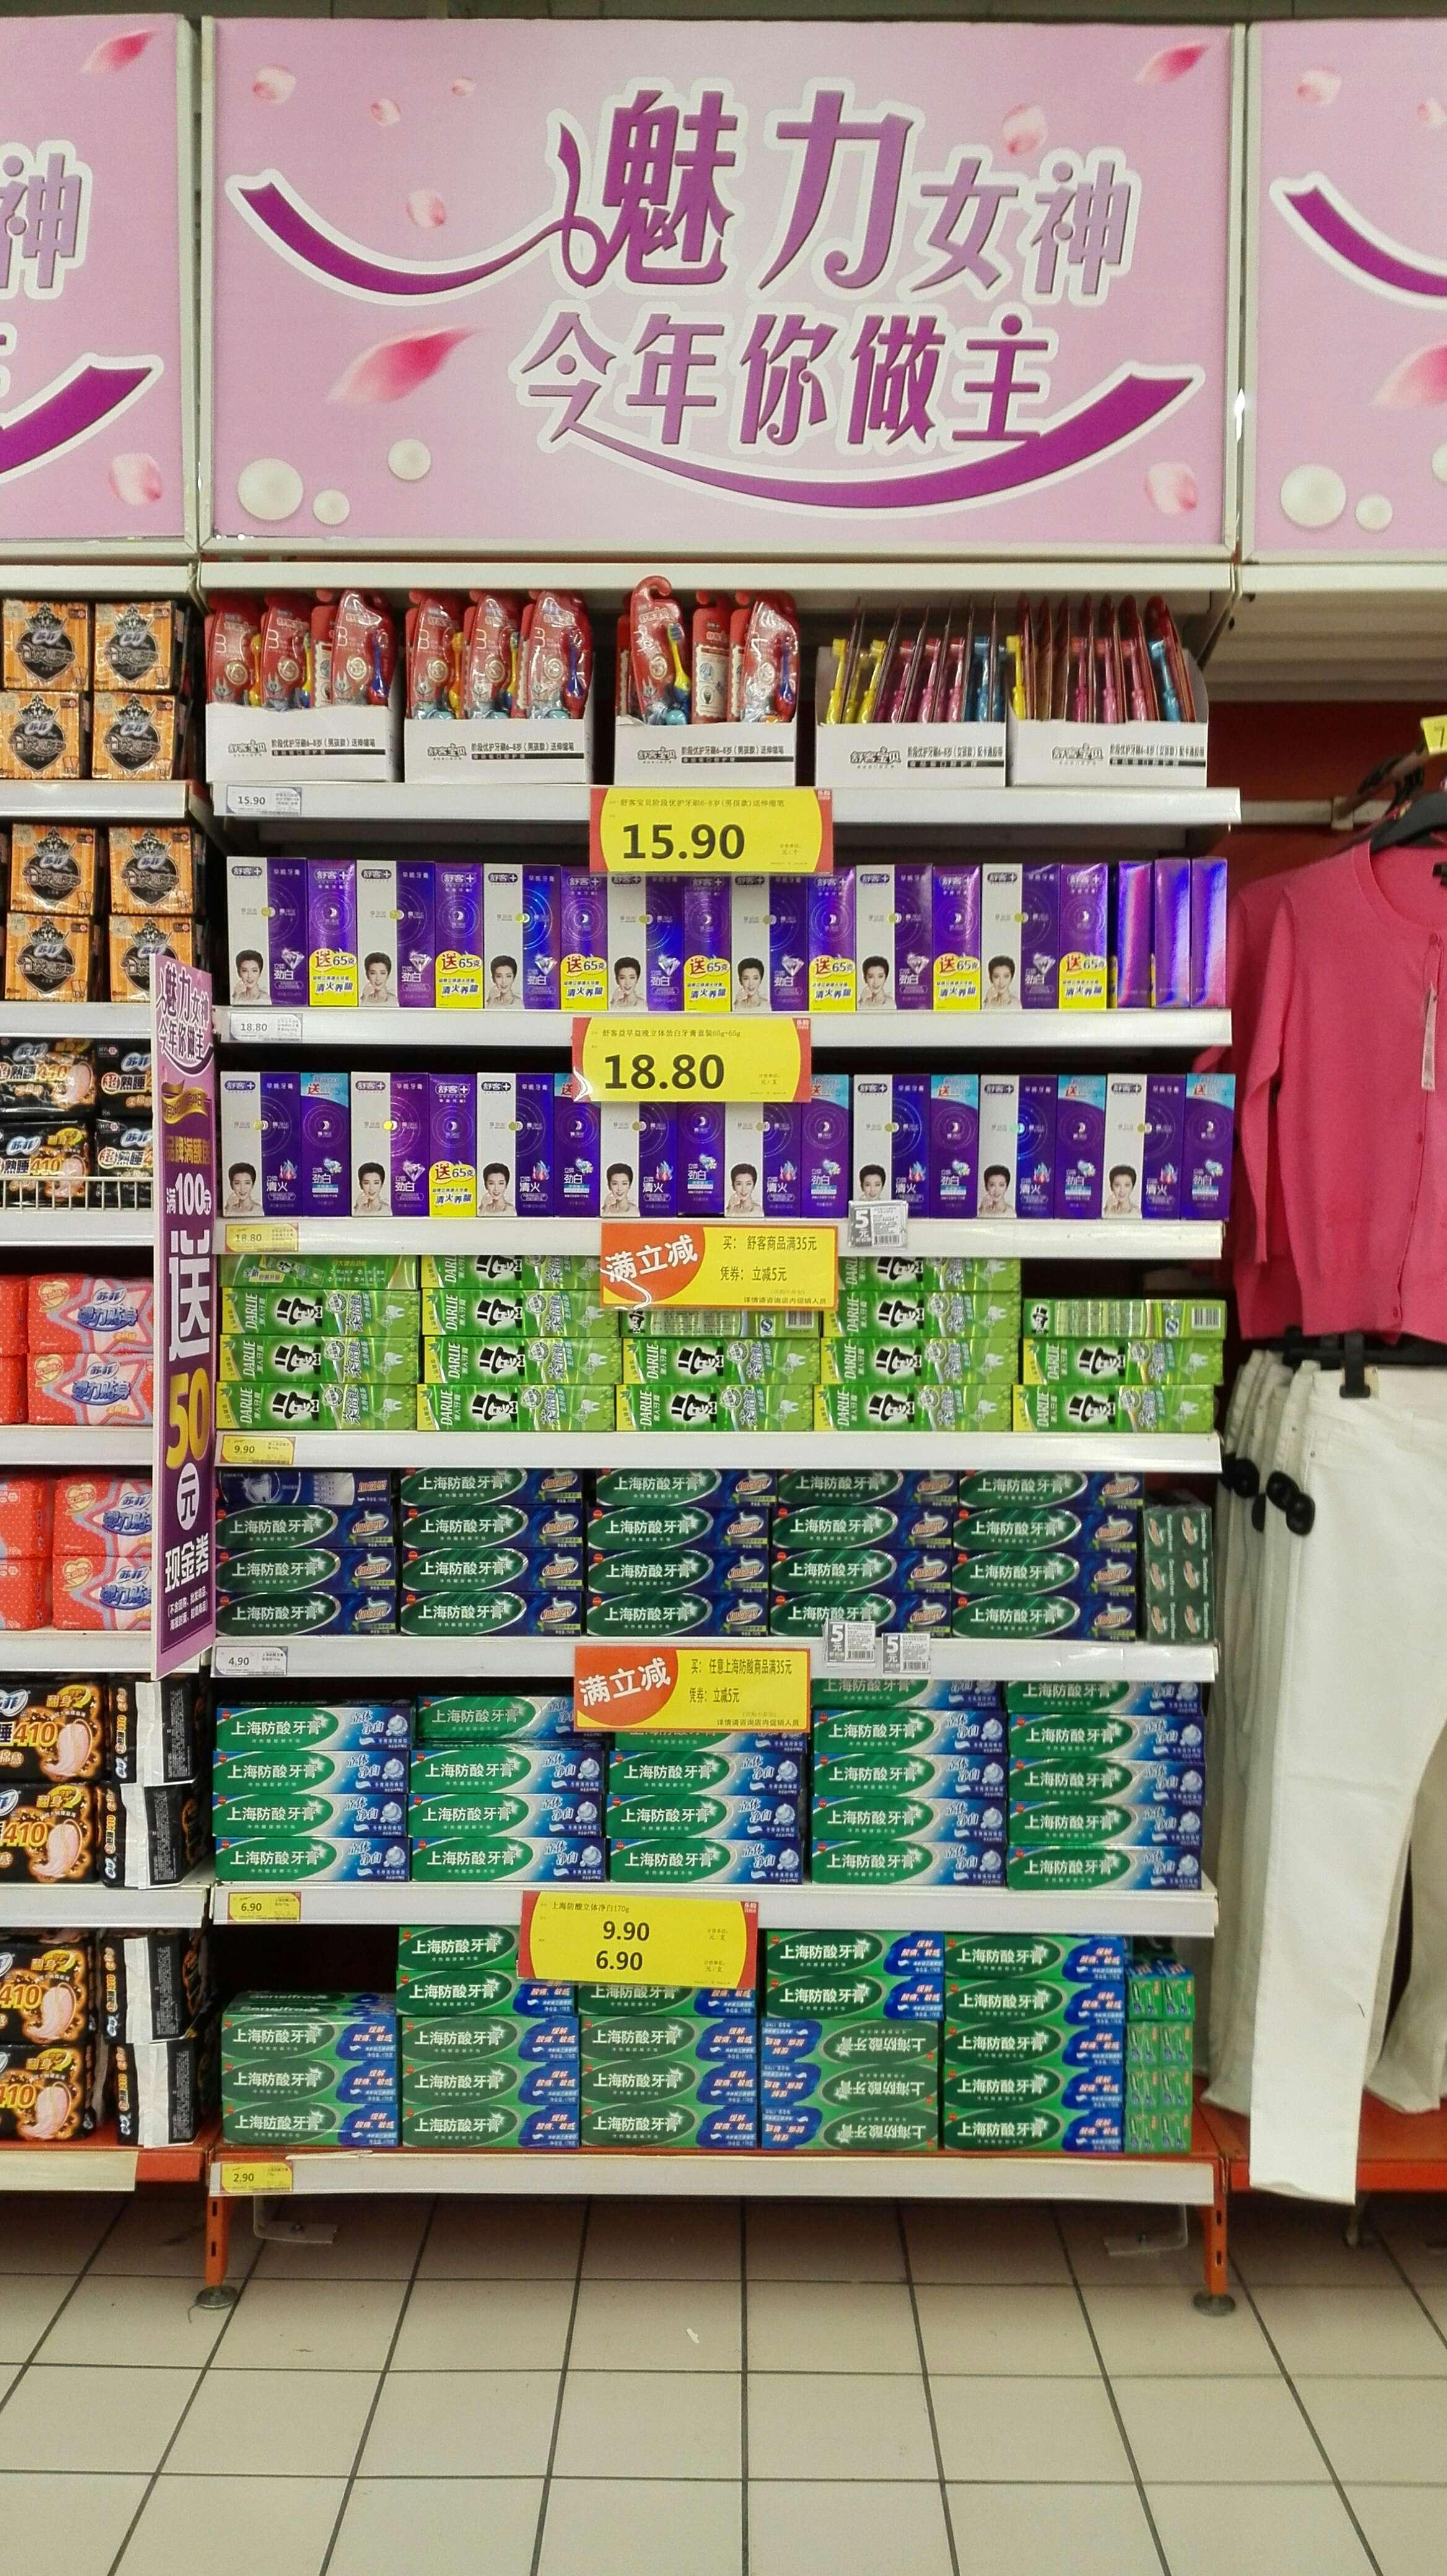empty: (221, 1928, 389, 2005)
